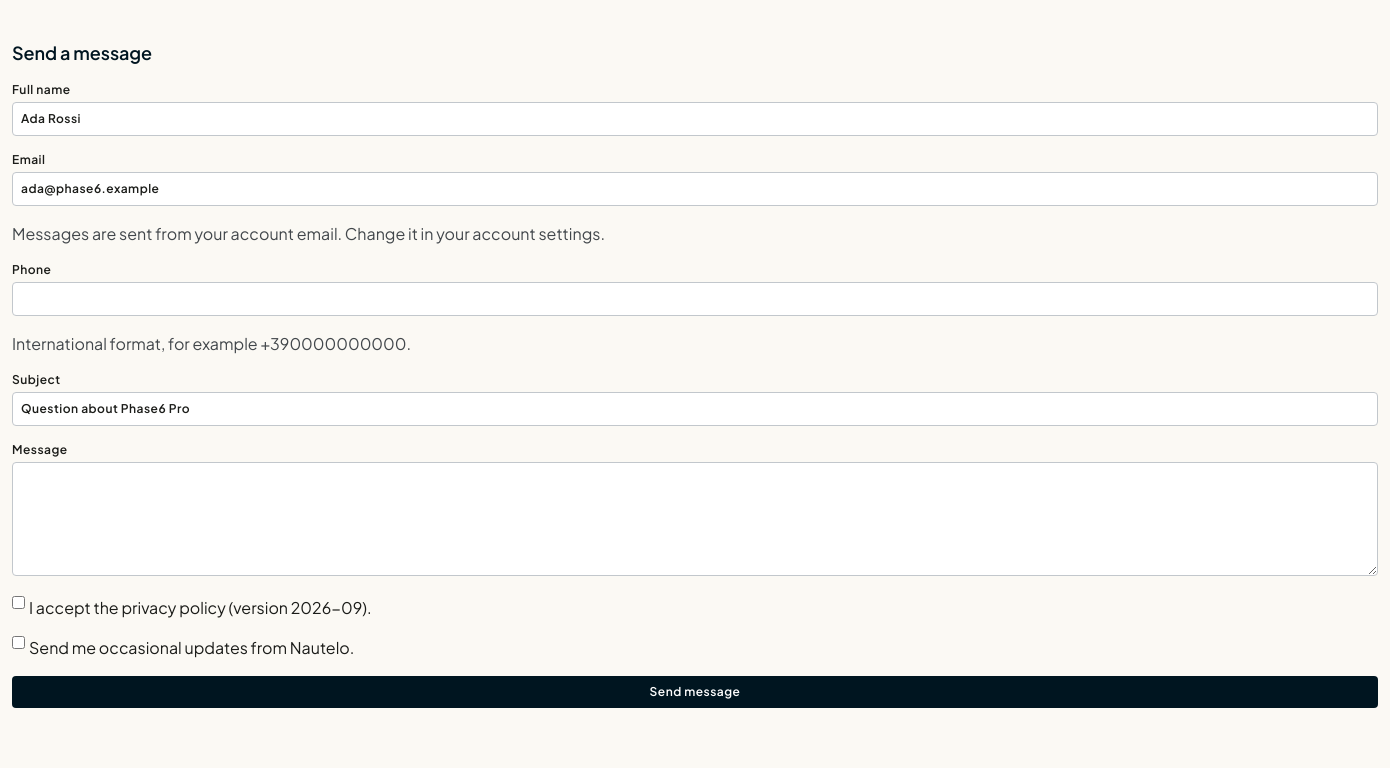
Test: InquiryForm › tells an unverified account to verify first and sends nothing
This screenshot has width=1390, height=768.
Step 1. Type "I would like to arrange a viewing next week please." into the text box labelled "Message" → (695, 519), box [12,462,1378,576]
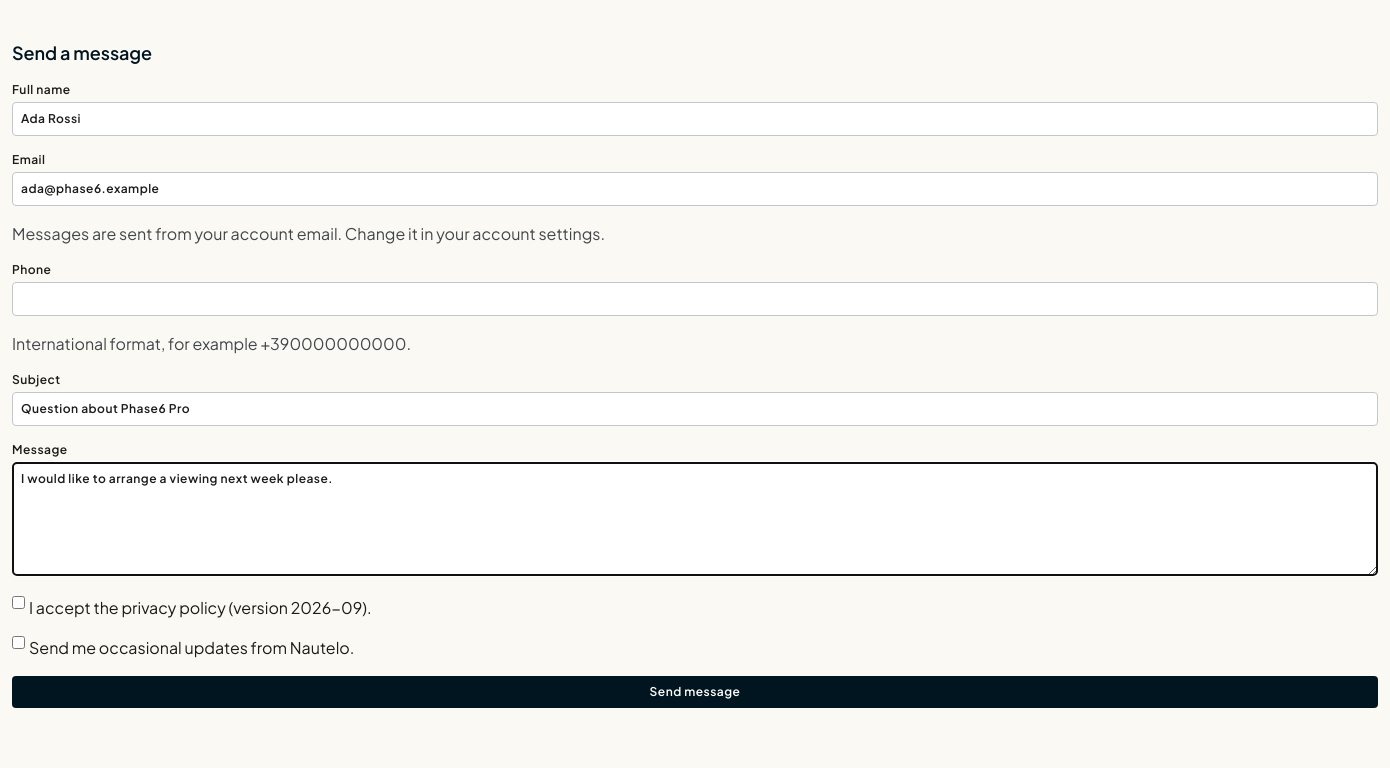
Step 2. Click the checkbox labelled "I accept the privacy policy (version 2026-09)." → click(18, 602), box [12,596,25,609]
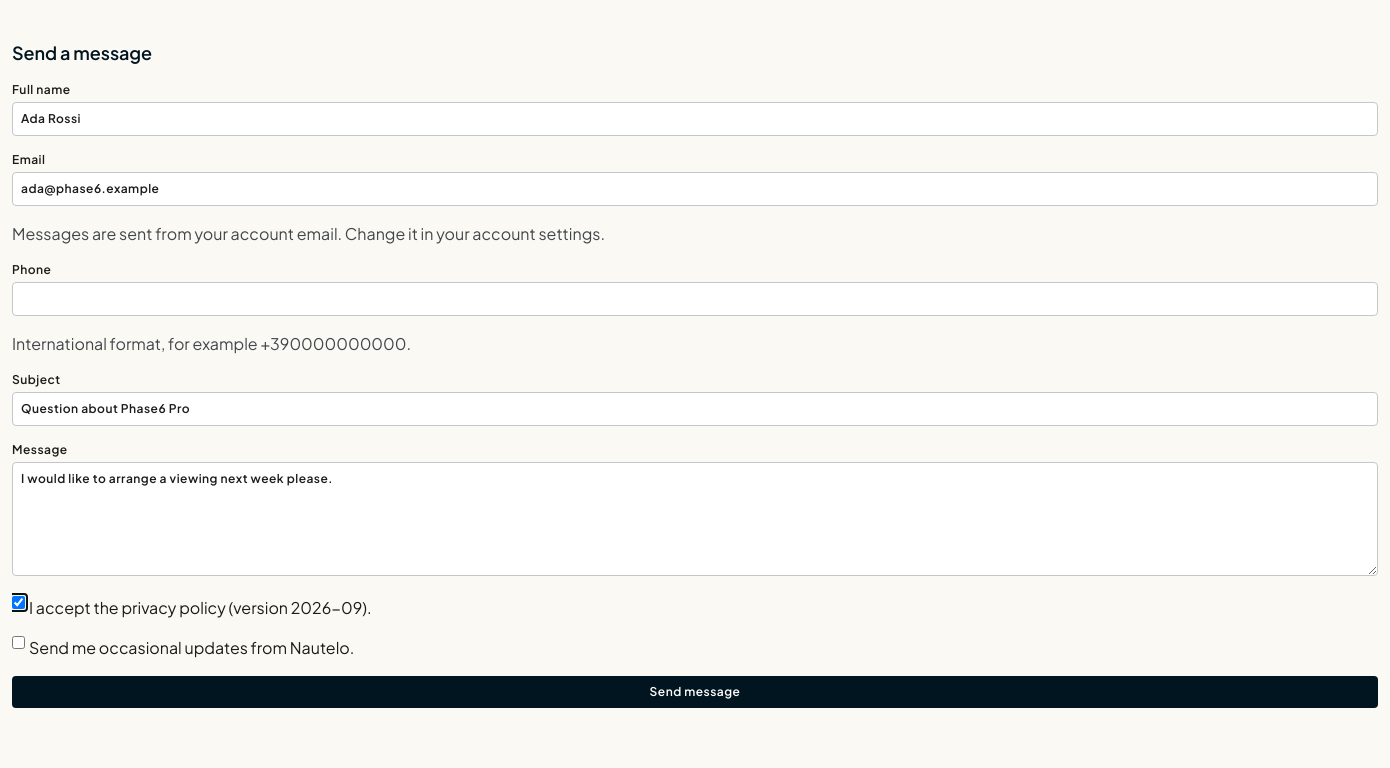
Step 3. Click the button "Send message" → click(695, 692), box [12,676,1378,708]
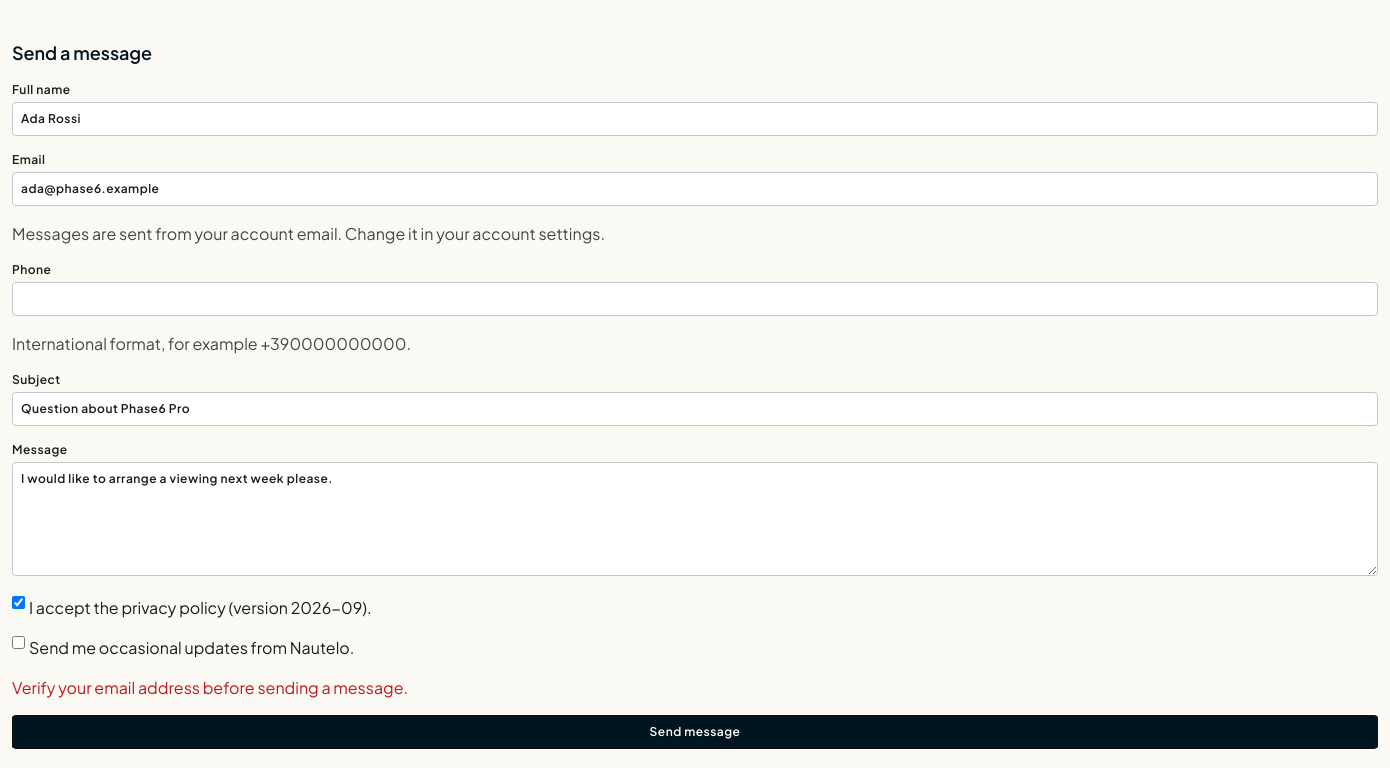
expect the message reads "Verify your email address before sending a message.": met, box [12,677,408,698]
